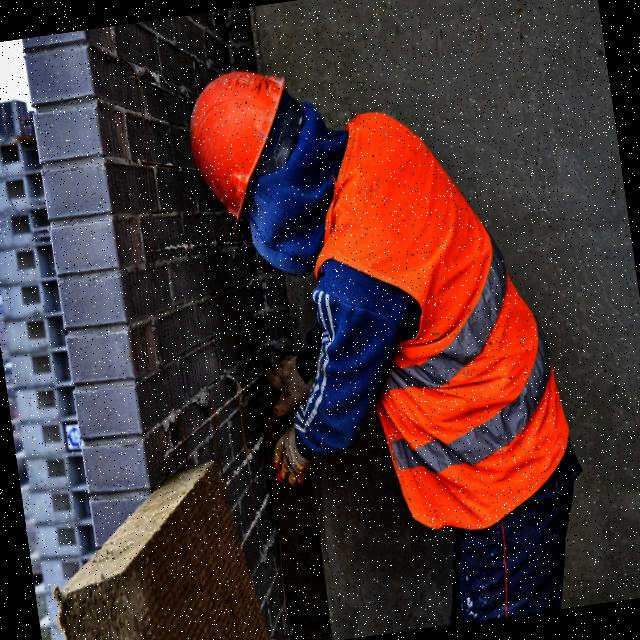Helmet: (307, 150, 531, 528), (181, 61, 307, 238)
